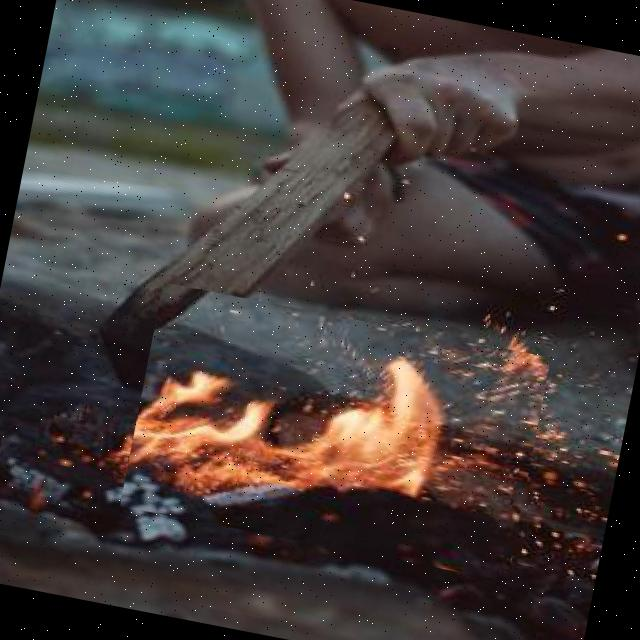fire: (120, 283, 551, 582)
